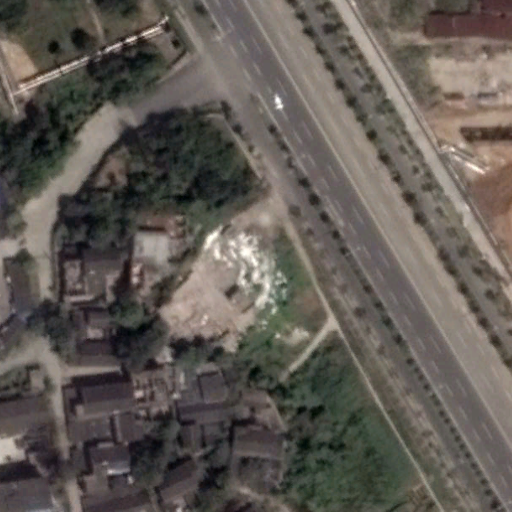msw: (211, 227, 288, 321)
